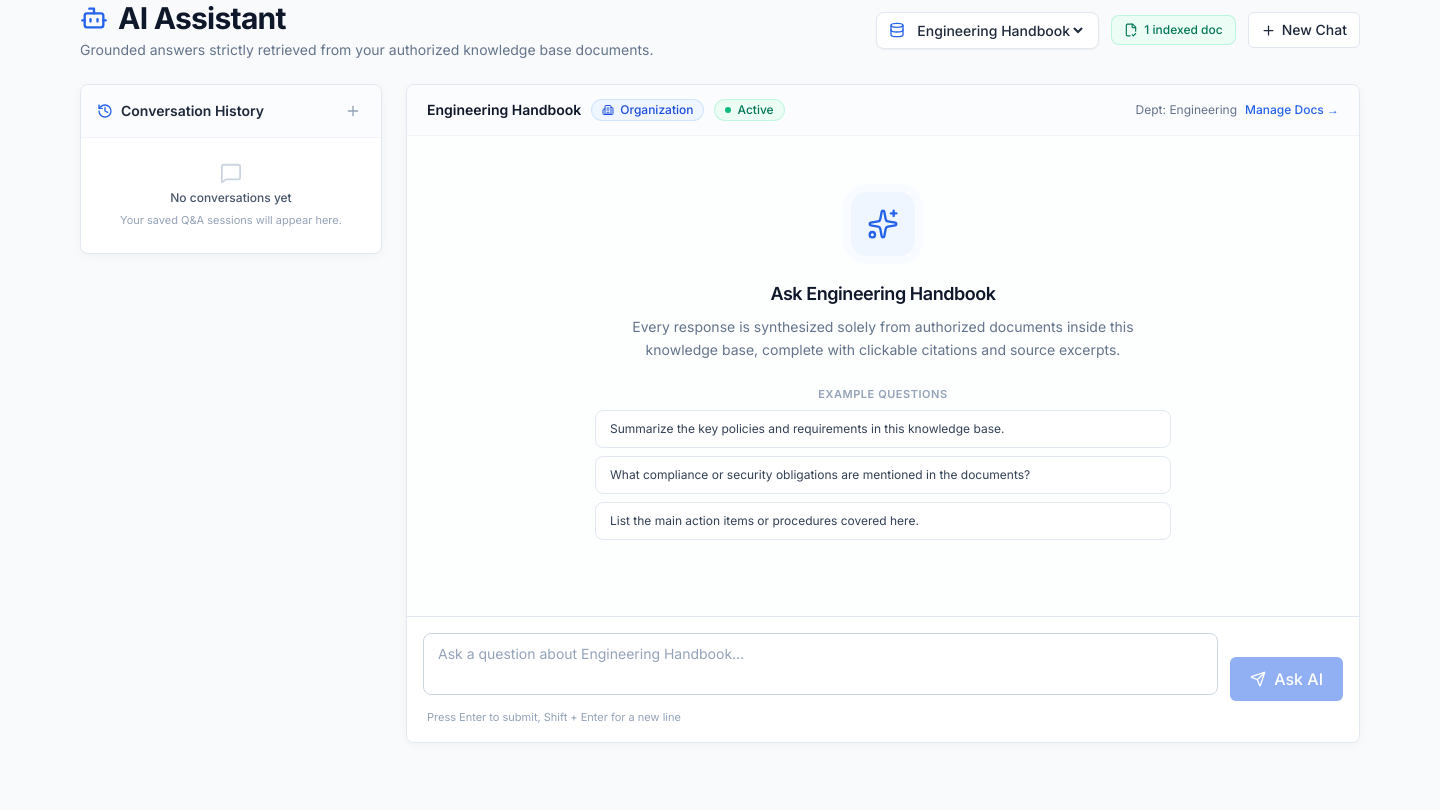
Test case: AiAssistant Frontend Integration › submits question to Node.js RAG endpoint, displays loading, answer, citations, and opens clickable source detail modal
The width and height of the screenshot is (1440, 810).
Later steps or results of the test are not shown.
Check: the text "1 indexed doc" is shown, box x1=1144 y1=22 x2=1223 y2=38
Type "What TLS version is mandatory?" into the text box labelled "Ask a question". click: (821, 664)
box: x1=423 y1=633 x2=1218 y2=695
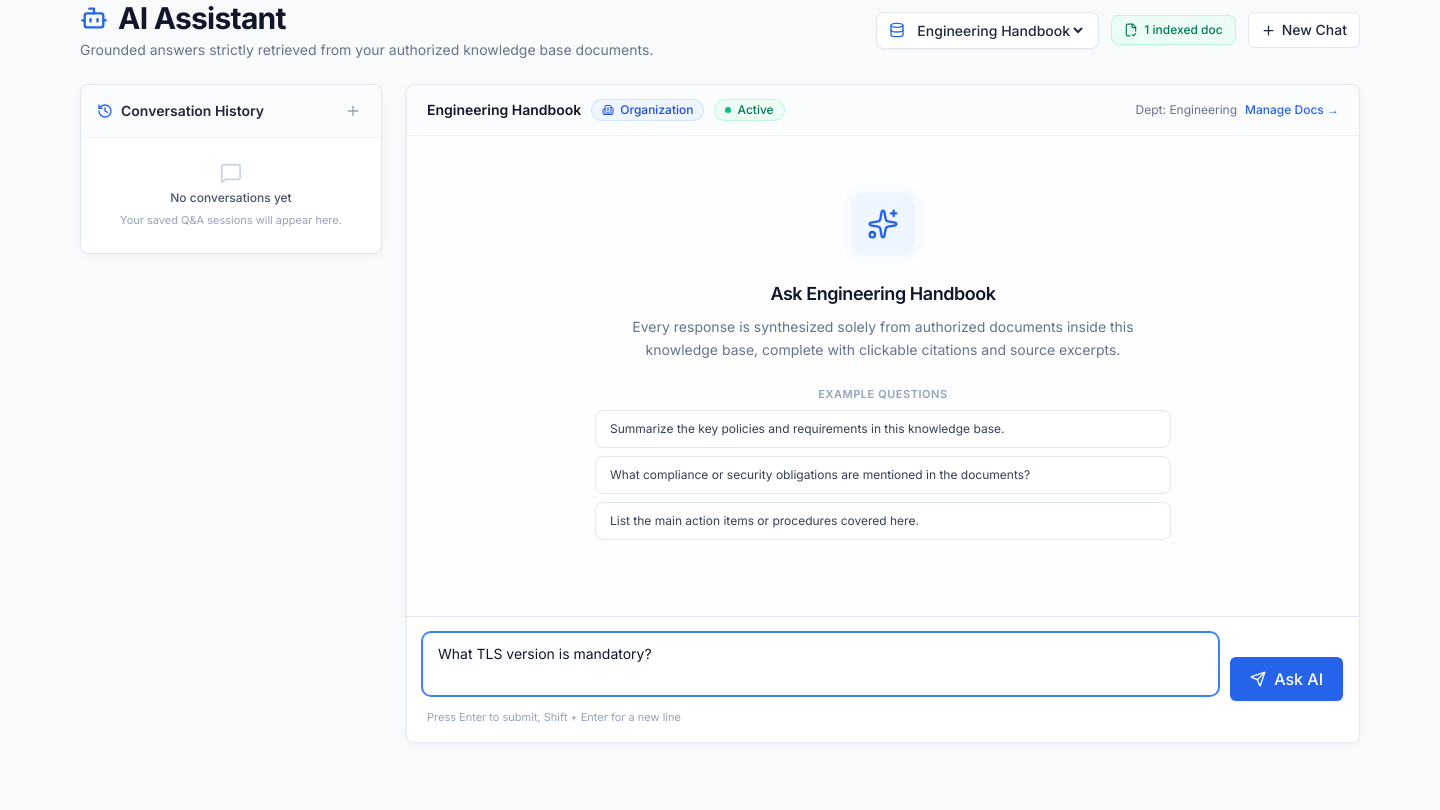
Click the button "Ask AI". click: (1287, 679)
box: x1=1230 y1=657 x2=1343 y2=701
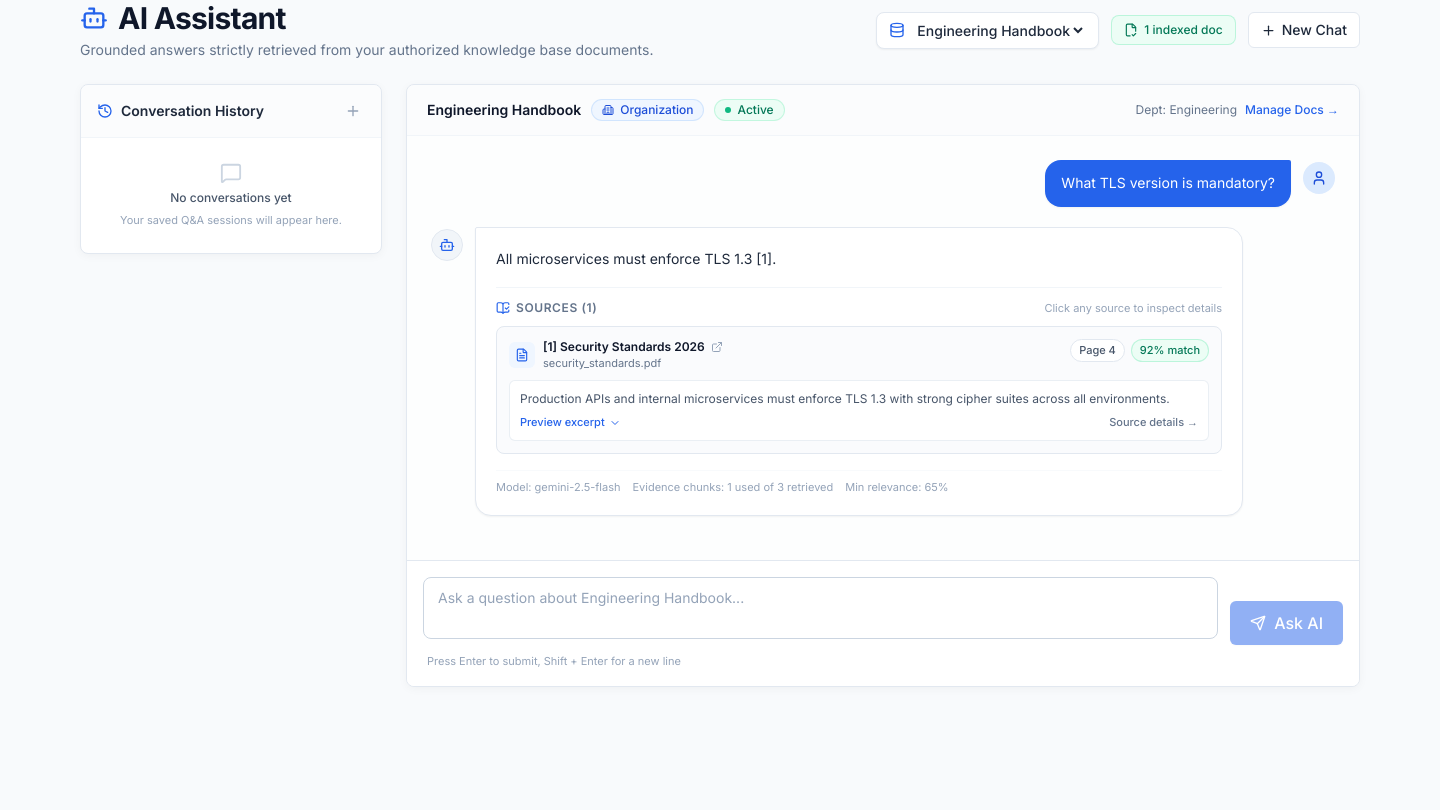
Check: the text "All microservices must enforce TLS 1.3 [1]." is shown, box x1=496 y1=250 x2=776 y2=267
Check: the text "Sources (1)" is shown, box x1=516 y1=300 x2=597 y2=316
Check: the text "Page 4" is shown, box x1=1070 y1=339 x2=1125 y2=362
Note: Clickable source details opens modal and loads authoritative document metadata
Click the button with aria-label "View source details for Security Standards 2026". click: (616, 355)
box: x1=509 y1=339 x2=723 y2=372
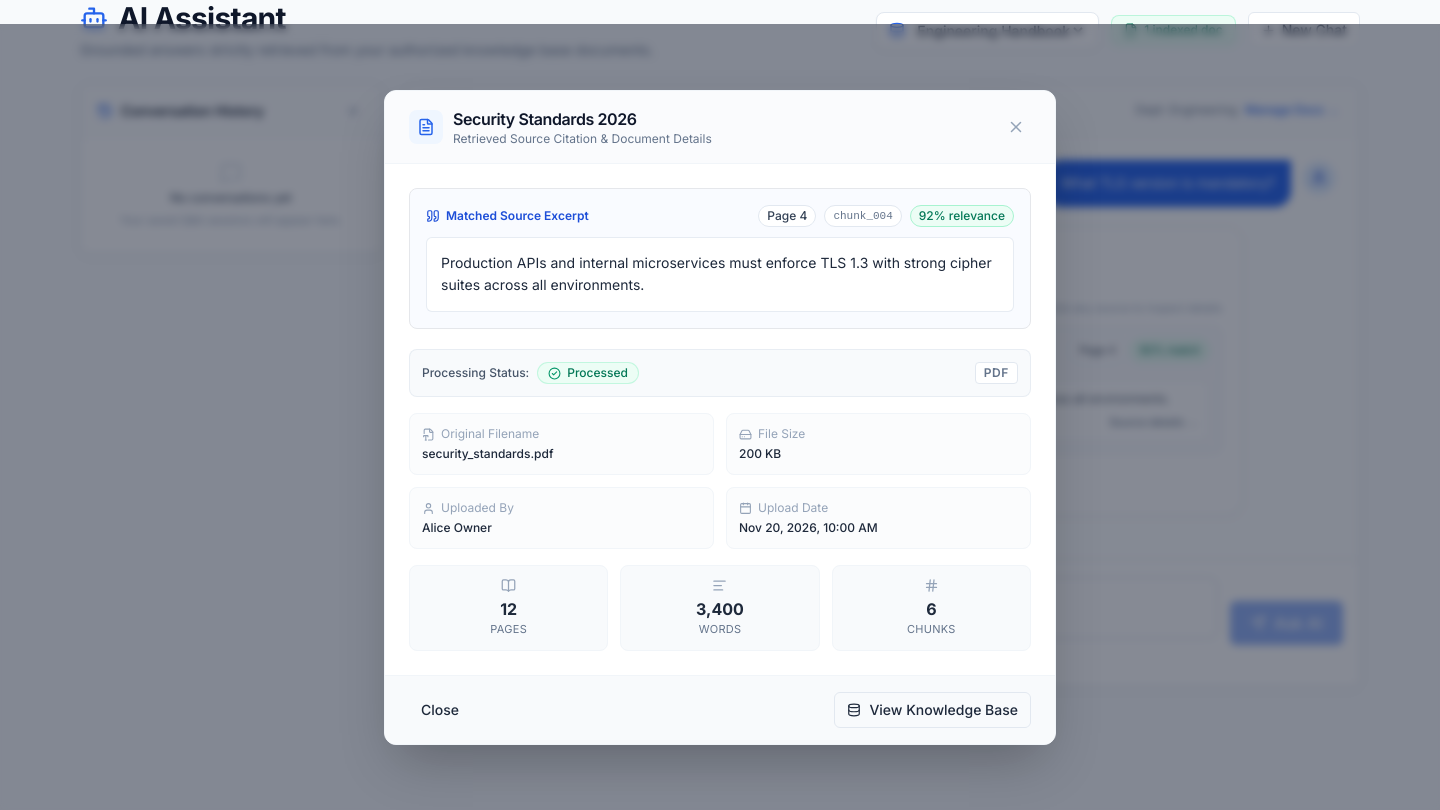
Check: the dialog is shown
Check: the text "security_standards.pdf" is shown, box x1=422 y1=446 x2=554 y2=461
Check: the text "Alice Owner" is shown, box x1=422 y1=520 x2=492 y2=535
